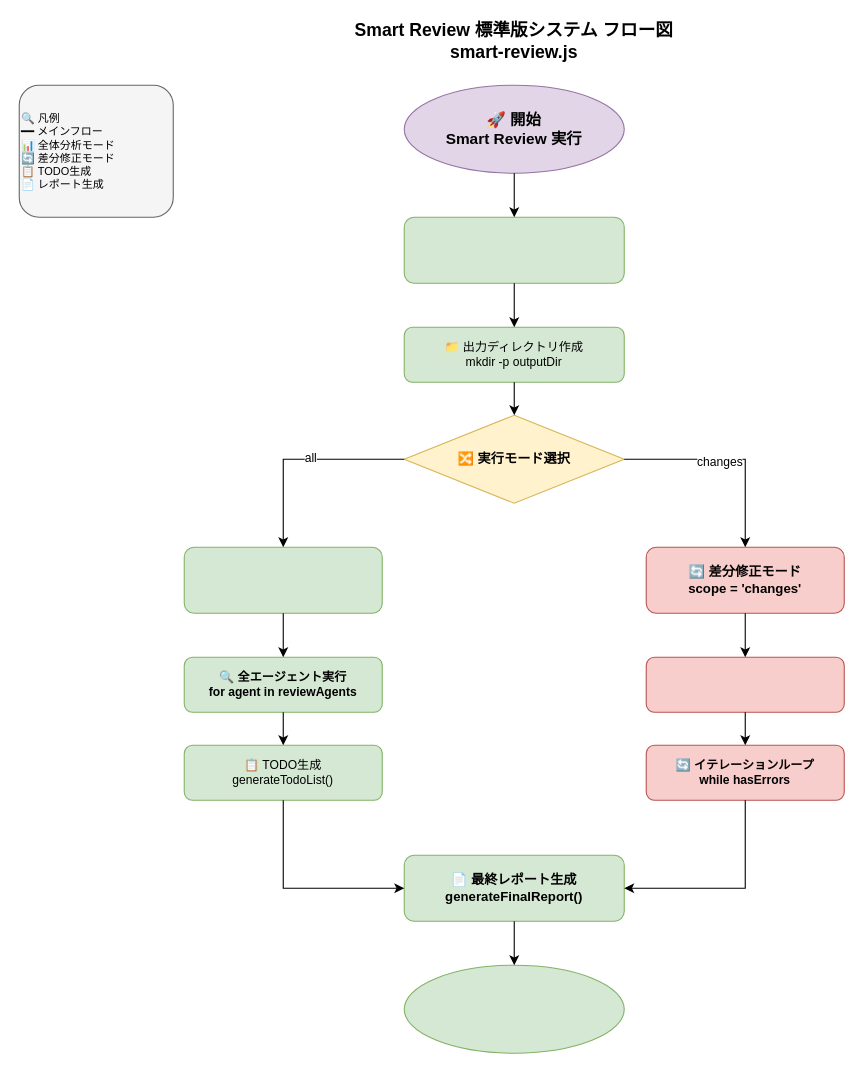
This 864x1073 diagram has some shape labels left out. The shapes that lost their labels are listed below. From the top down, each one's centre as x and y in pixels, then its label:
At point (513, 249): "🔧 初期化 実行コンテキスト設定".
At point (282, 579): "📊 全体分析モード scope = 'all'".
At point (744, 684): "🔍 変更ファイル検出 detectChangedFiles()".
At point (513, 1008): "✅ 成功完了 Smart Review 完了".
